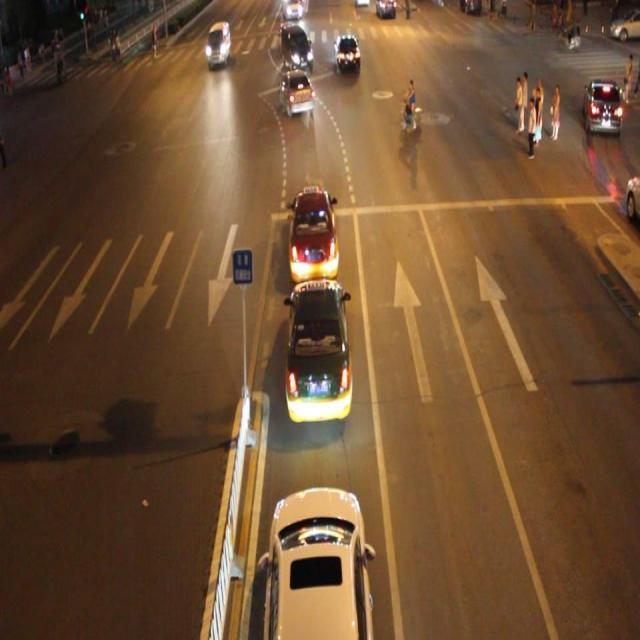car: (261, 477, 375, 640), (285, 276, 352, 420), (287, 188, 339, 284), (279, 70, 314, 117), (280, 28, 314, 75), (333, 33, 361, 75)
truck: (204, 21, 230, 66)
